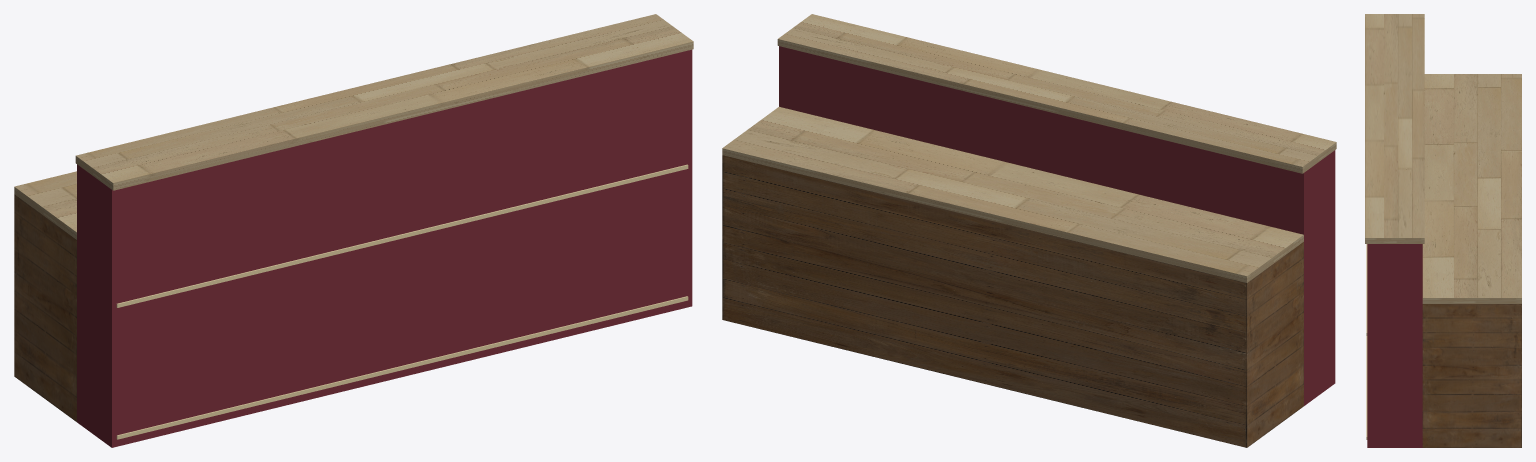
File: balcao_recepcao.glb
The picture shows the model from 3 angles, left to right: view 1: azimuth 30°, elevation 25°; view 2: azimuth 150°, elevation 25°; view 3: azimuth 270°, elevation 25°; orthographic projection. The views are drawn at different scales.
Visible parts, largest first — view 1: balcao_recepcao; view 2: balcao_recepcao; view 3: balcao_recepcao.
Part boxes in pixels (bbox=[...]): balcao_recepcao: bbox=[14, 14, 693, 447]; balcao_recepcao: bbox=[722, 14, 1336, 447]; balcao_recepcao: bbox=[1365, 14, 1521, 447].
Size of the model in its own units: 2.4 by 1.05 by 0.71.
4 materials, 2 textured.
